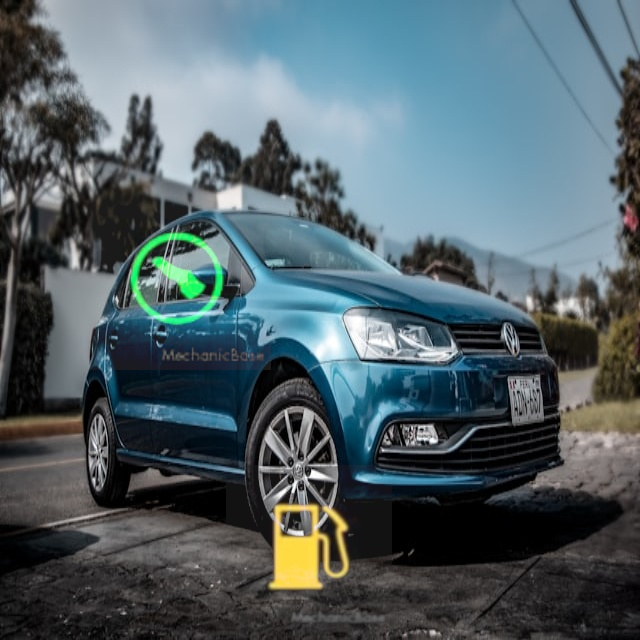symbol: (91, 190, 271, 370), (226, 465, 392, 631)
